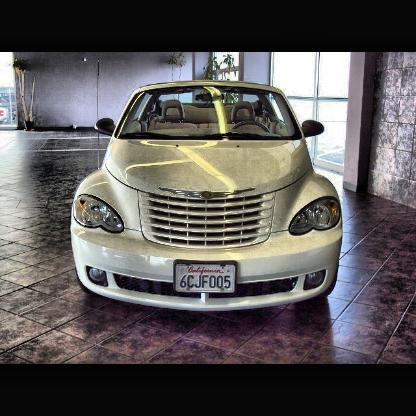Chrysler PT Cruiser Convertible 2008: (72, 82, 343, 313)
